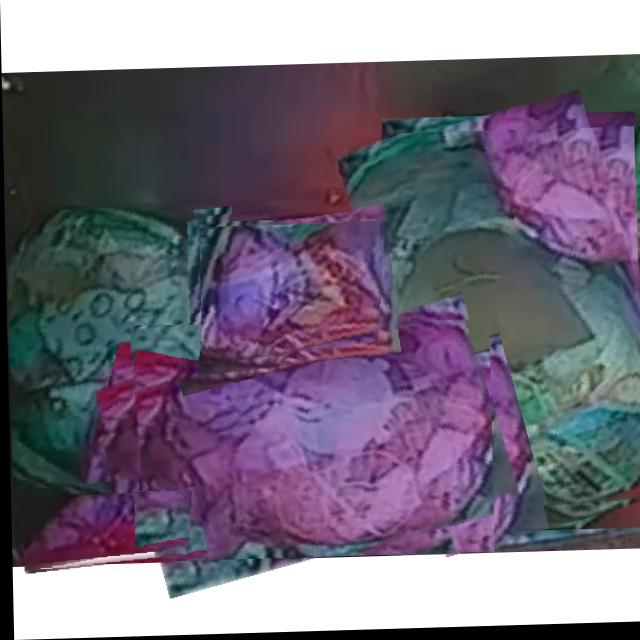general_trashbag: (349, 136, 640, 511), (8, 209, 222, 487)
other_trashbag: (137, 323, 489, 561), (201, 224, 384, 362), (22, 494, 189, 572)
